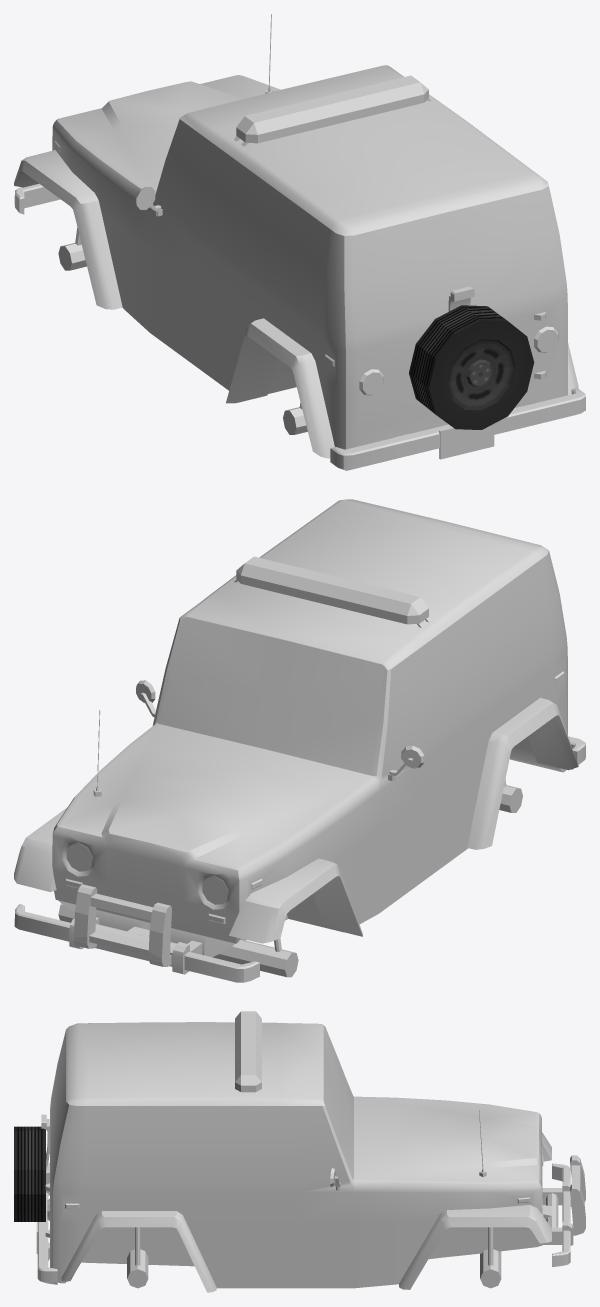
File: SheriffHopper.fbx
The picture shows the model from 3 angles, top to bottom: view 1: azimuth 30°, elevation 25°; view 2: azimuth 150°, elevation 25°; view 3: azimuth 270°, elevation 25°; orthographic projection. The views are drawn at different scales.
Parts seen in each view (by area): view 1: Antenna, SpareWheel; view 2: Antenna; view 3: Antenna, SpareWheel.
Boxes of the visible parts, box(x1,y1,x2,y2) form: Antenna: box(14, 14, 585, 470); SpareWheel: box(409, 305, 534, 429); Antenna: box(14, 499, 585, 982); Antenna: box(36, 1011, 585, 1292); SpareWheel: box(14, 1126, 45, 1221).
Size of the model in its own units: 2.45 by 2.09 by 5.37.
